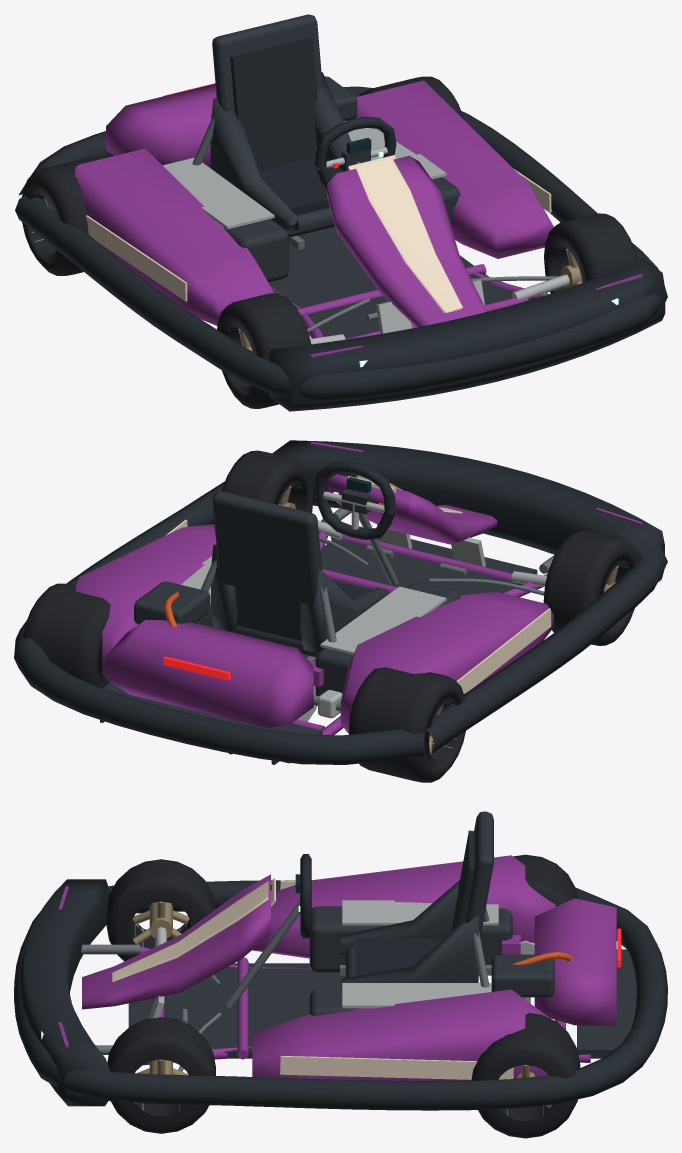
The model's file is vortex-lod.glb.
The picture shows the model from 3 angles, top to bottom: view 1: azimuth 30°, elevation 25°; view 2: azimuth 150°, elevation 25°; view 3: azimuth 270°, elevation 25°; orthographic projection.
Visible parts, largest first — view 1: paint, Moulded bumper polymer (×3), Satin composite, Slick vulcanised rubber (×4), Seat fabric, Livery ivory, Brushed alloy, Steel fasteners; view 2: Moulded bumper polymer (×3), paint, Satin composite (×3), Slick vulcanised rubber (×4), Brushed alloy (×2), Steel fasteners, Livery ivory, brake_light; view 3: paint, Moulded bumper polymer (×3), Satin composite (×2), Slick vulcanised rubber (×4), Livery ivory, Brushed alloy, Seat fabric, Steel fasteners (×2), Magnesium wheel centres.
Part boxes in pixels (<box>): paint: <box>75,80,553,339</box>; Moulded bumper polymer (×3): <box>15,86,667,411</box>; Satin composite: <box>167,14,512,338</box>; Slick vulcanised rubber (×4): <box>22,76,637,408</box>; Seat fabric: <box>230,37,343,215</box>; Livery ivory: <box>86,158,551,312</box>; Brushed alloy: <box>163,117,569,344</box>; Steel fasteners: <box>192,116,558,332</box>; Moulded bumper polymer (×3): <box>14,440,667,764</box>; paint: <box>75,474,553,735</box>; Satin composite (×3): <box>100,489,537,764</box>; Slick vulcanised rubber (×4): <box>23,450,639,782</box>; Brushed alloy (×2): <box>181,491,546,721</box>; Steel fasteners: <box>200,513,544,711</box>; Livery ivory: <box>165,475,551,693</box>; brake_light: <box>163,656,230,680</box>; paint: <box>82,855,616,1081</box>; Moulded bumper polymer (×3): <box>14,854,667,1110</box>; Satin composite (×2): <box>128,811,636,1058</box>; Slick vulcanised rubber (×4): <box>106,854,580,1138</box>; Livery ivory: <box>112,880,513,1079</box>; Brushed alloy: <box>149,900,534,1018</box>; Seat fabric: <box>355,830,474,976</box>; Steel fasteners (×2): <box>81,900,530,1074</box>; Magnesium wheel centres: <box>133,901,189,944</box>.
Size of the model in its own units: 2.17 by 1.01 by 2.8.
